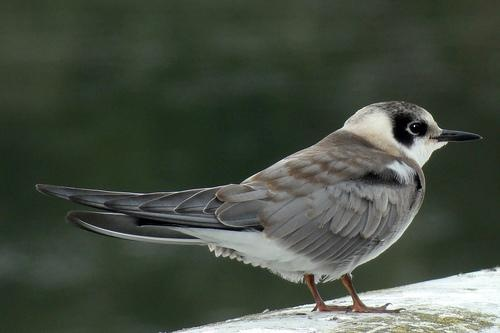bird: (35, 98, 484, 314)
